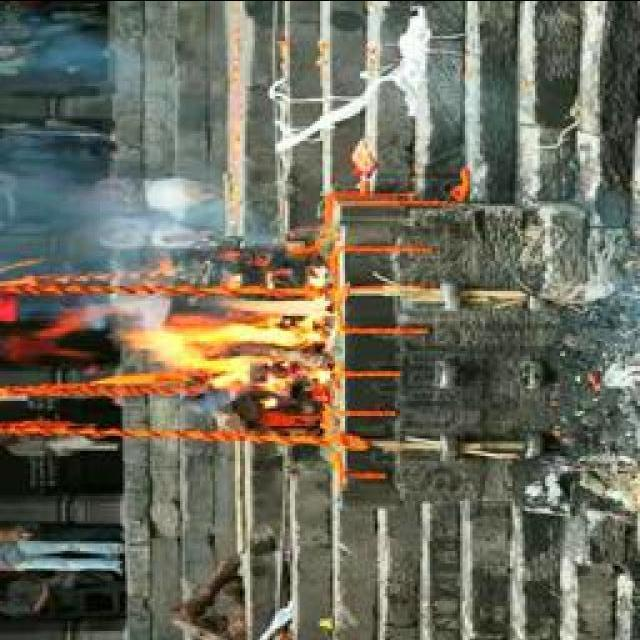Fire: (124, 290, 337, 391)
